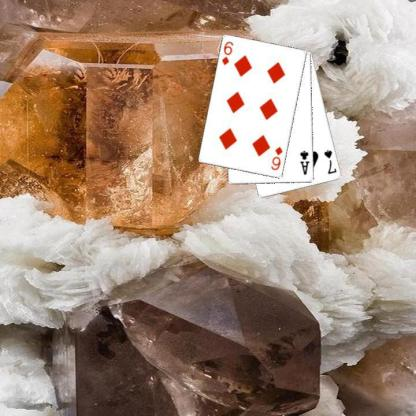6D: (268, 144, 284, 172), (219, 40, 234, 66)
7S: (322, 147, 338, 176)
AC: (297, 149, 311, 176)
